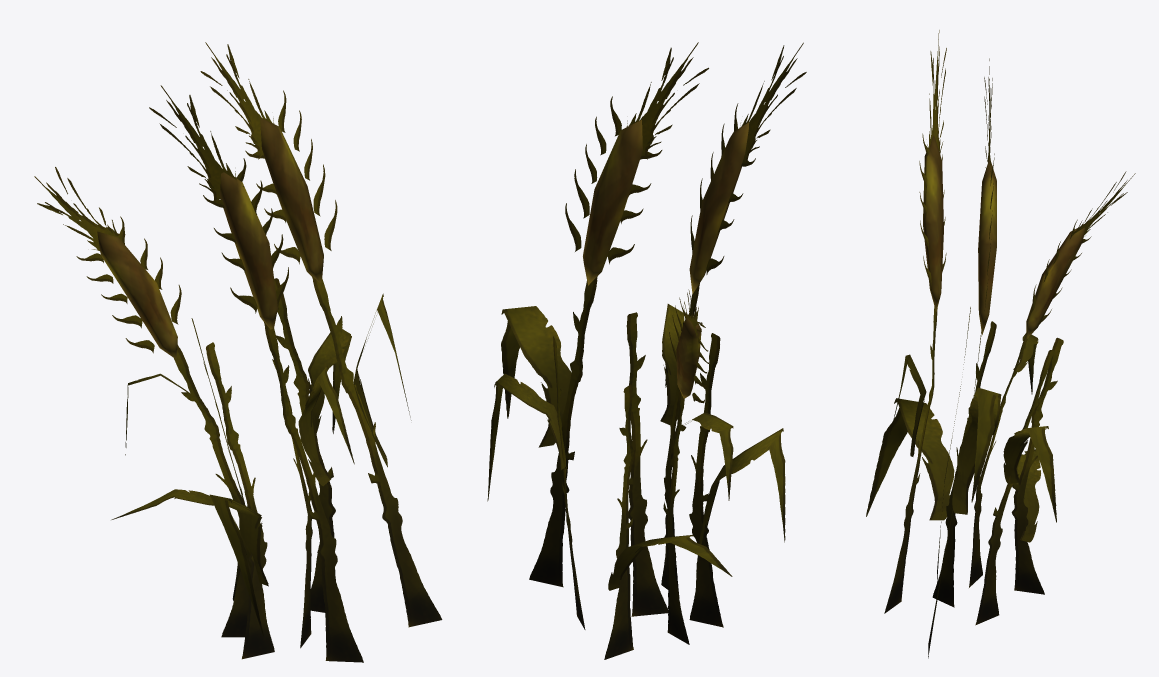
File: wheat_broke.FBX
The picture shows the model from 3 angles, left to right: view 1: azimuth 30°, elevation 25°; view 2: azimuth 150°, elevation 25°; view 3: azimuth 270°, elevation 25°; orthographic projection. The views are drawn at different scales.
Visible parts, largest first — view 1: wheat_broke; view 2: wheat_broke; view 3: wheat_broke.
Part boxes in pixels (x1,y1,x2,y2): wheat_broke: (34,42,442,662); wheat_broke: (487,42,806,659); wheat_broke: (866,30,1135,658).
Bounding box in the file's own units: 4.32 × 8.28 × 4.15.
1 material, 1 textured.
